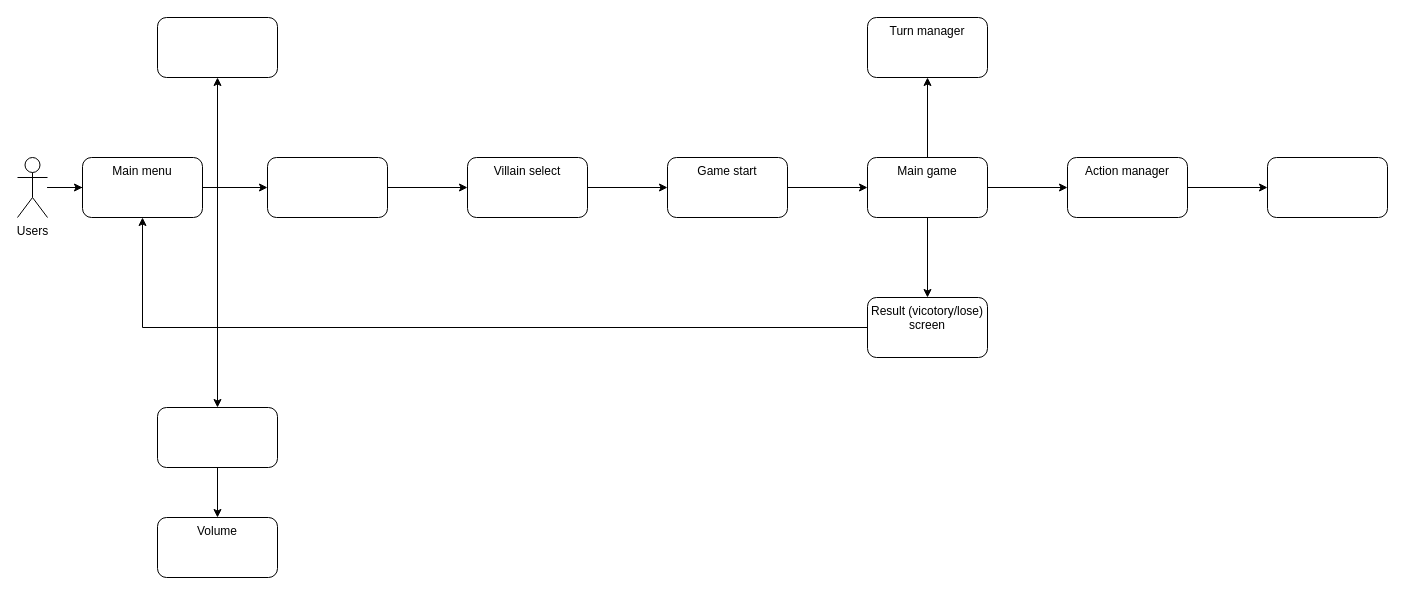
This 1405x595 diagram has some shape labels left out. Here are the shapes that lost their labels. From the top down, the box of each, then its label:
(156, 16, 278, 78): Exit
(266, 156, 388, 218): Hero select
(1266, 156, 1388, 218): Board
(156, 406, 278, 468): Settings
